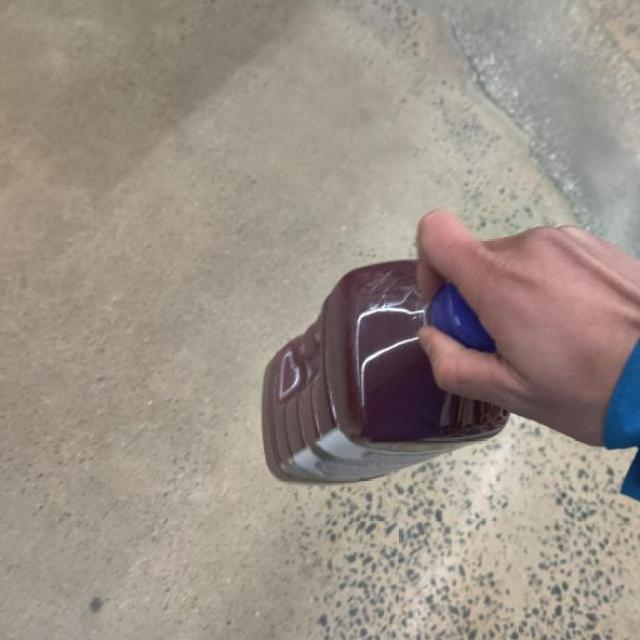Juice: (242, 236, 542, 499)
